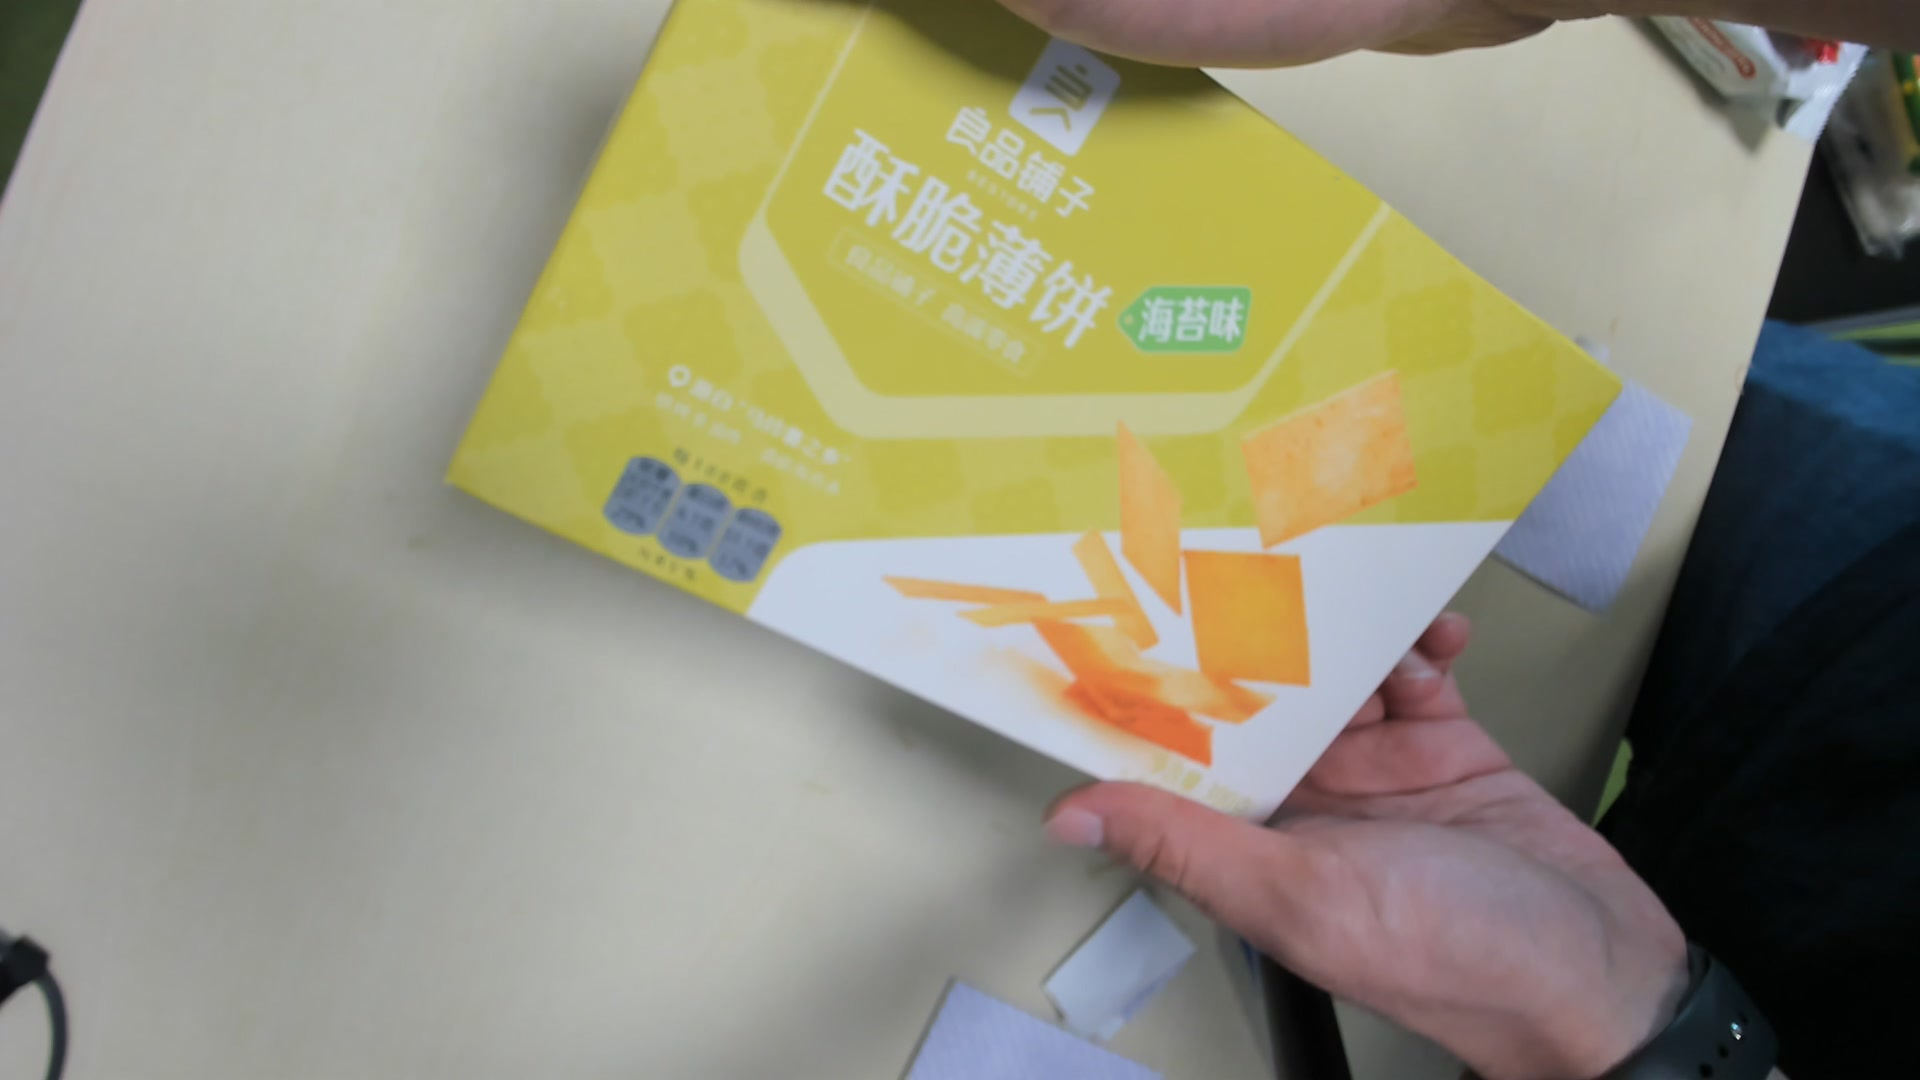BiscuitsCrackersCookies_300-399g_Halal_NonHealthy: (436, 1, 1600, 823)
